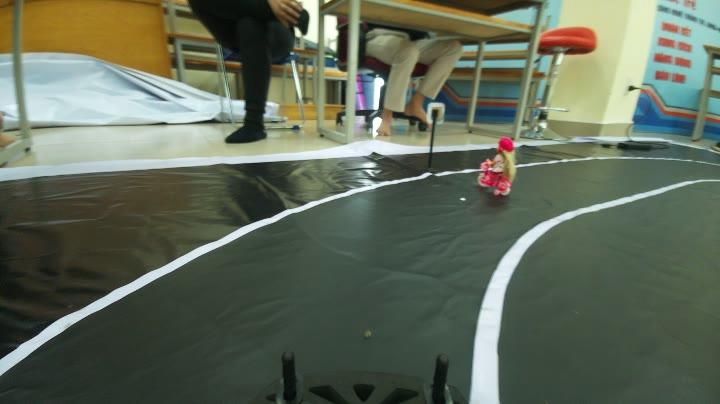pedestrian: (480, 132, 518, 192)
